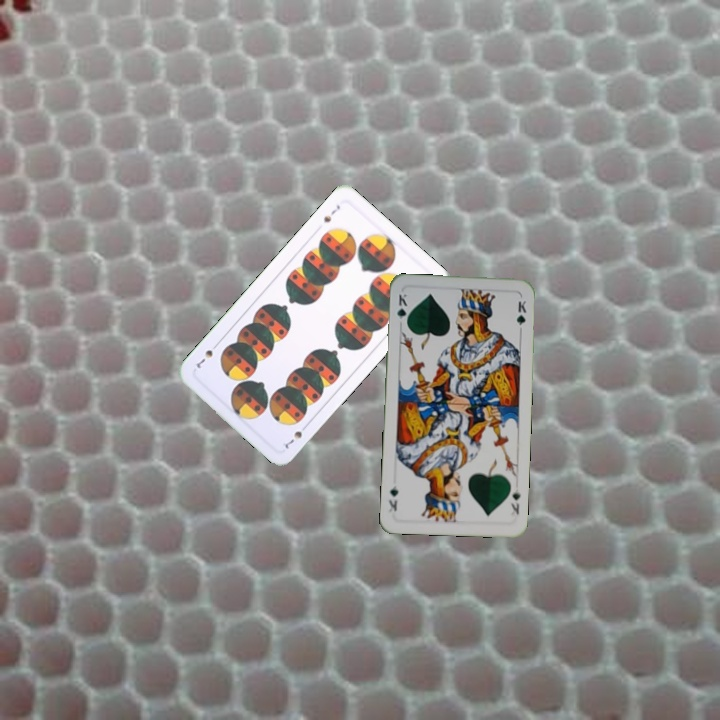GK: (393, 290, 410, 329), (507, 485, 523, 517)
S7: (280, 420, 311, 451), (319, 201, 343, 225)
